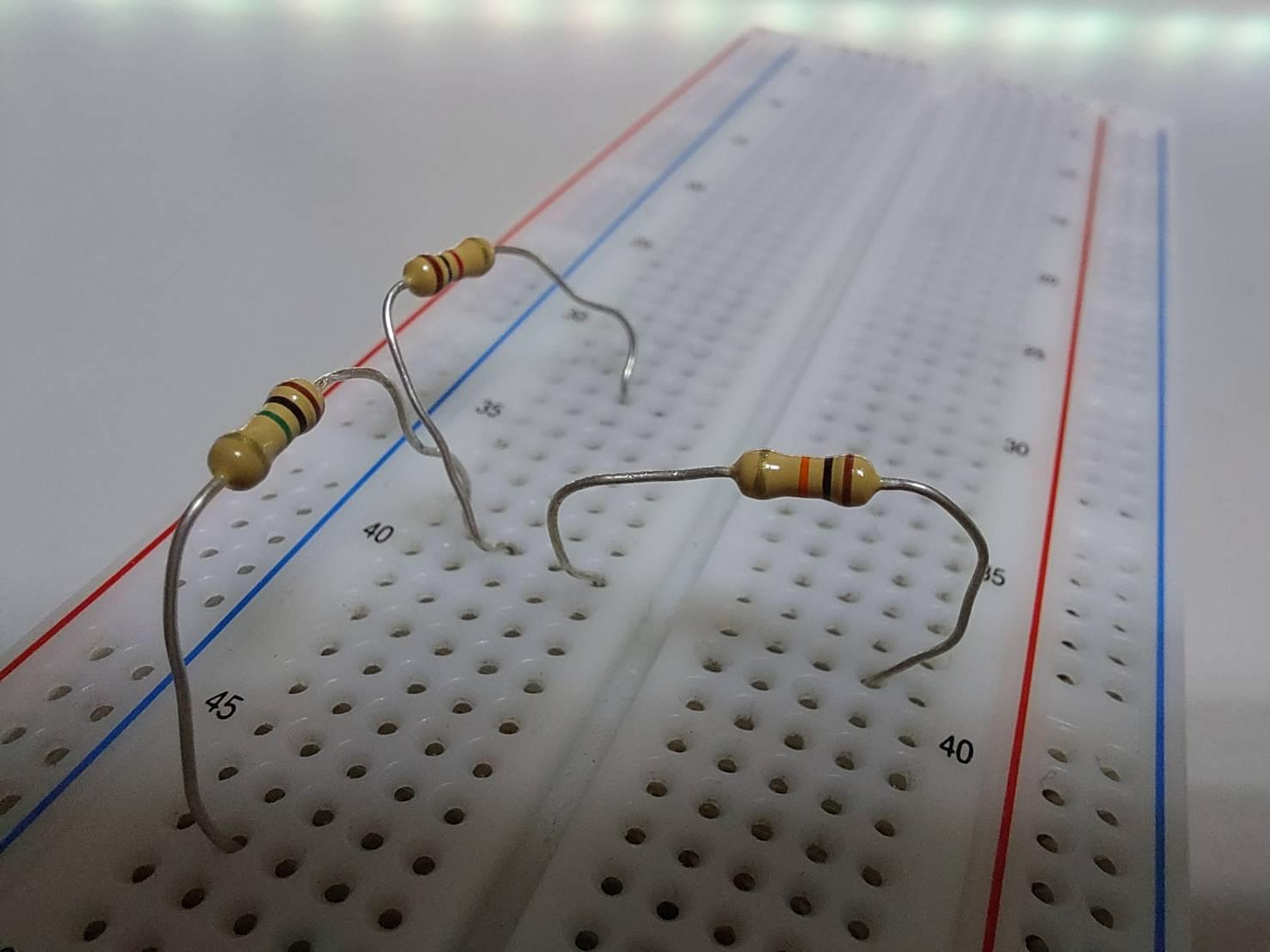resistor: (195, 372, 353, 487), (737, 443, 888, 516), (389, 232, 512, 299)
